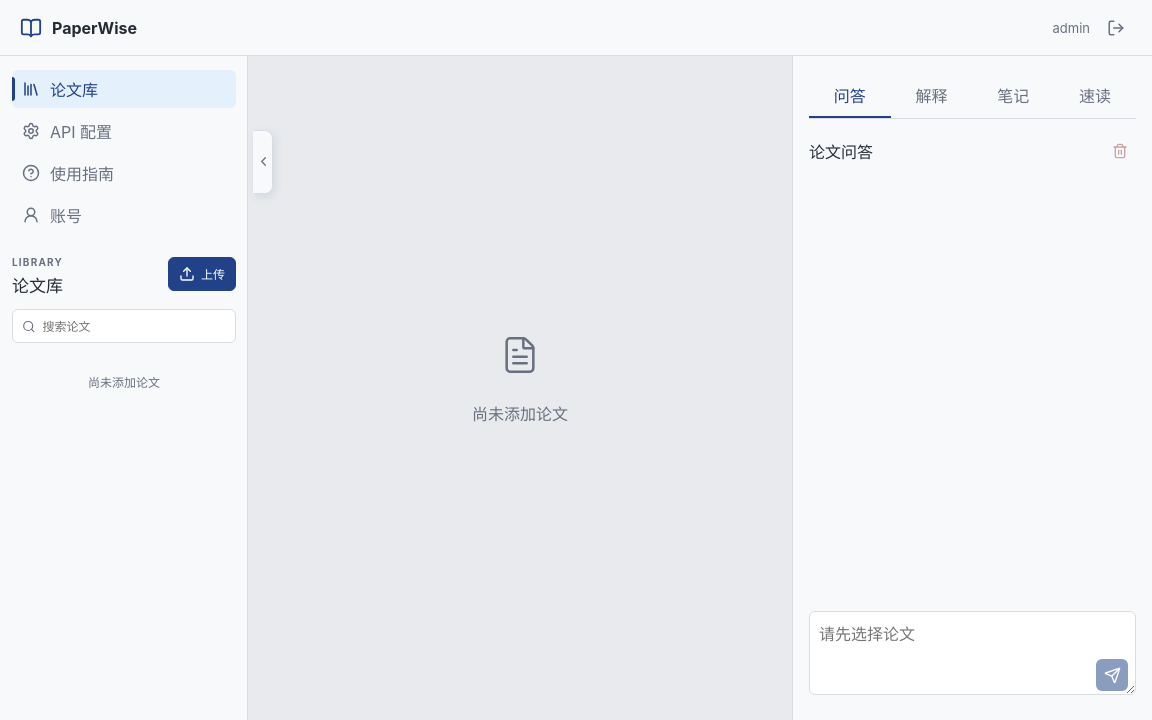
Test: App › opens settings from the navigation and has no top settings button
Click the button "API 配置": (124, 131) [12,112,236,150]
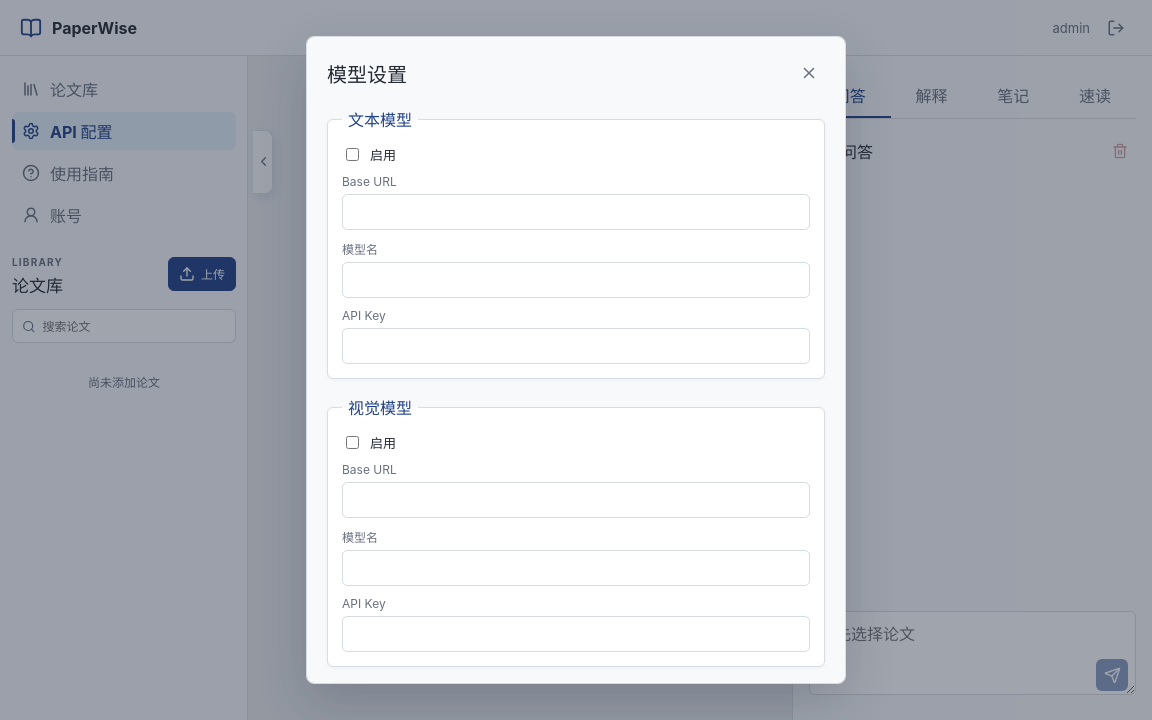
Now the dialog "模型设置" is shown
